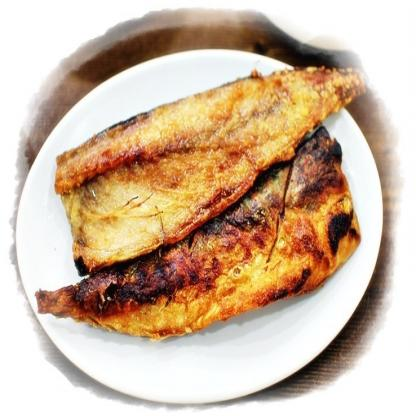Peixe: (45, 50, 376, 356)
